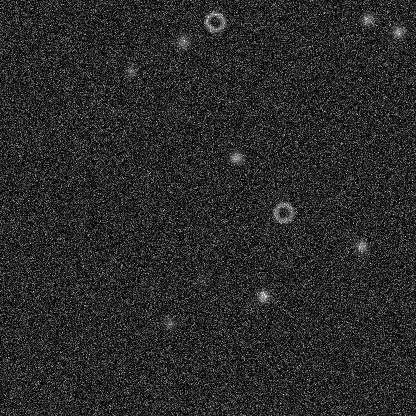Ring: (202, 9, 226, 33), (271, 200, 295, 224)
Spot: (389, 23, 405, 39), (174, 33, 190, 49), (255, 287, 271, 303), (104, 103, 120, 119), (359, 11, 375, 27), (196, 272, 212, 288), (161, 315, 177, 331), (353, 238, 369, 254), (228, 149, 244, 165), (122, 63, 138, 79)
